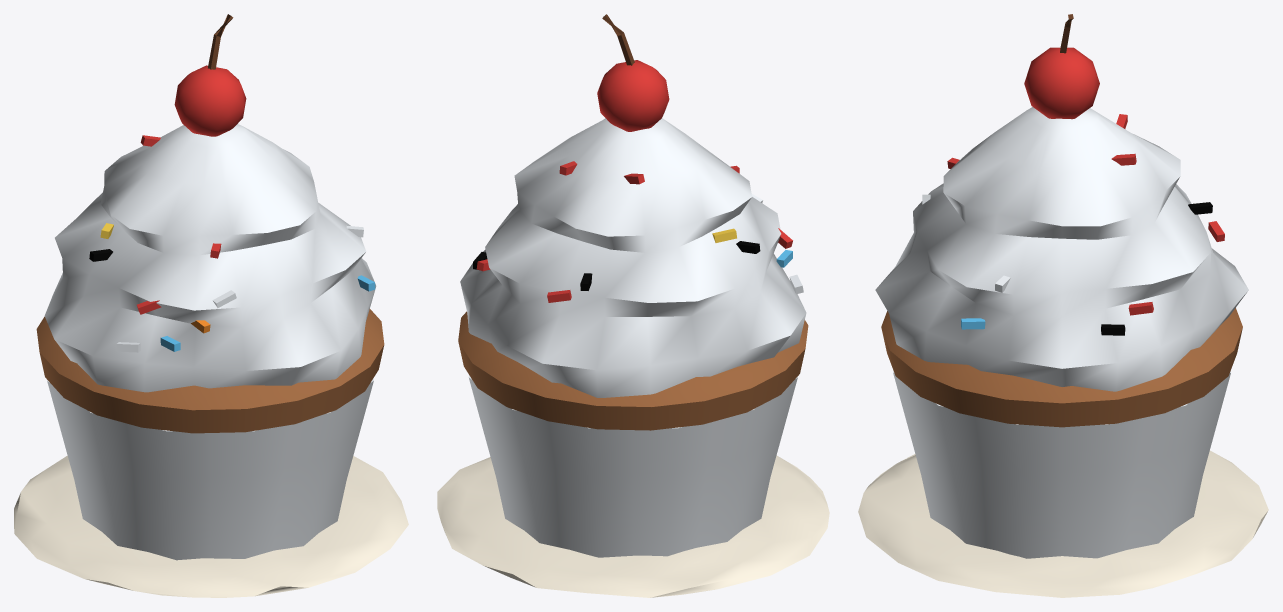
File: Cupcake.fbx
3 views of the same model, side by side, from view 1: azimuth 30°, elevation 25°; view 2: azimuth 150°, elevation 25°; view 3: azimuth 270°, elevation 25° (orthographic). The views are drawn at different scales.
Parts seen in each view (by area): view 1: Cupcake; view 2: Cupcake; view 3: Cupcake.
Boxes of the visible parts, <box> form: Cupcake: <box>14,14,408,597</box>; Cupcake: <box>437,14,829,597</box>; Cupcake: <box>858,14,1268,597</box>.
Bounding box in the file's own units: 1.42 × 1.93 × 1.41.
2 materials, 2 textured.
